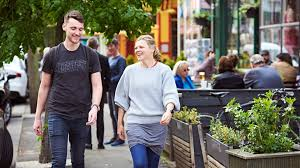no-mask: (58, 9, 89, 47), (130, 35, 159, 66), (173, 59, 192, 81), (103, 35, 119, 58)
